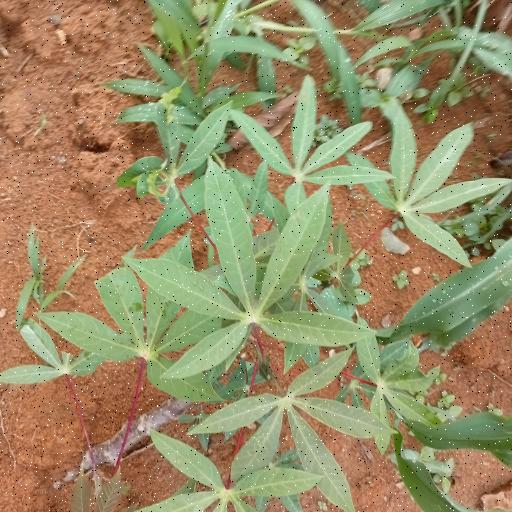Cassava_Mosaic: (158, 168, 374, 379), (200, 354, 384, 508)
